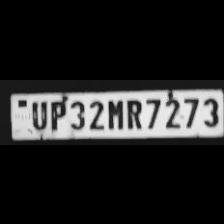2: (160, 96, 180, 128), (86, 96, 104, 130)
3: (66, 96, 86, 130), (200, 93, 220, 126)
7: (142, 95, 162, 129), (179, 94, 199, 128)
M: (104, 96, 124, 128)
P: (46, 97, 66, 129)
R: (124, 96, 142, 128)
U: (28, 97, 48, 128)
